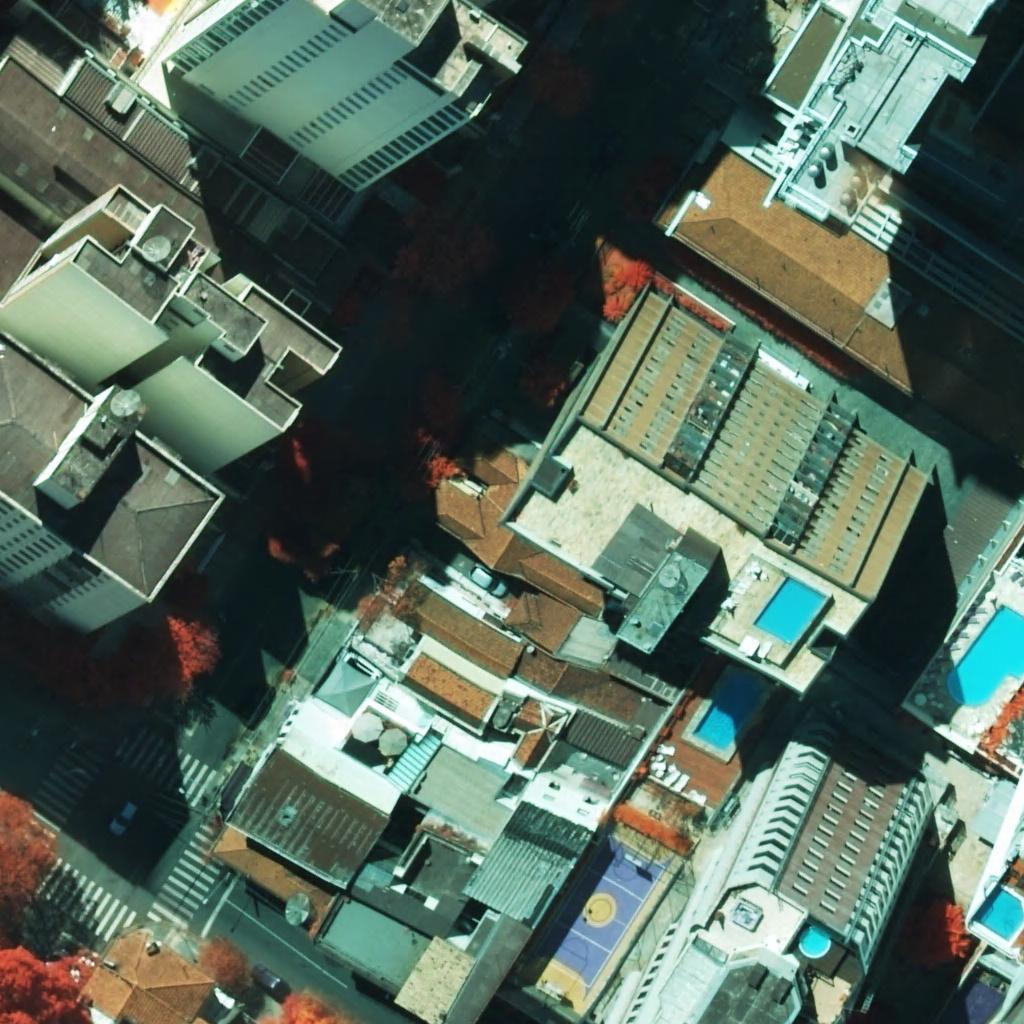pool: (948, 604, 1024, 706), (693, 672, 765, 752), (753, 577, 828, 645), (974, 886, 1024, 941), (801, 929, 828, 955)
